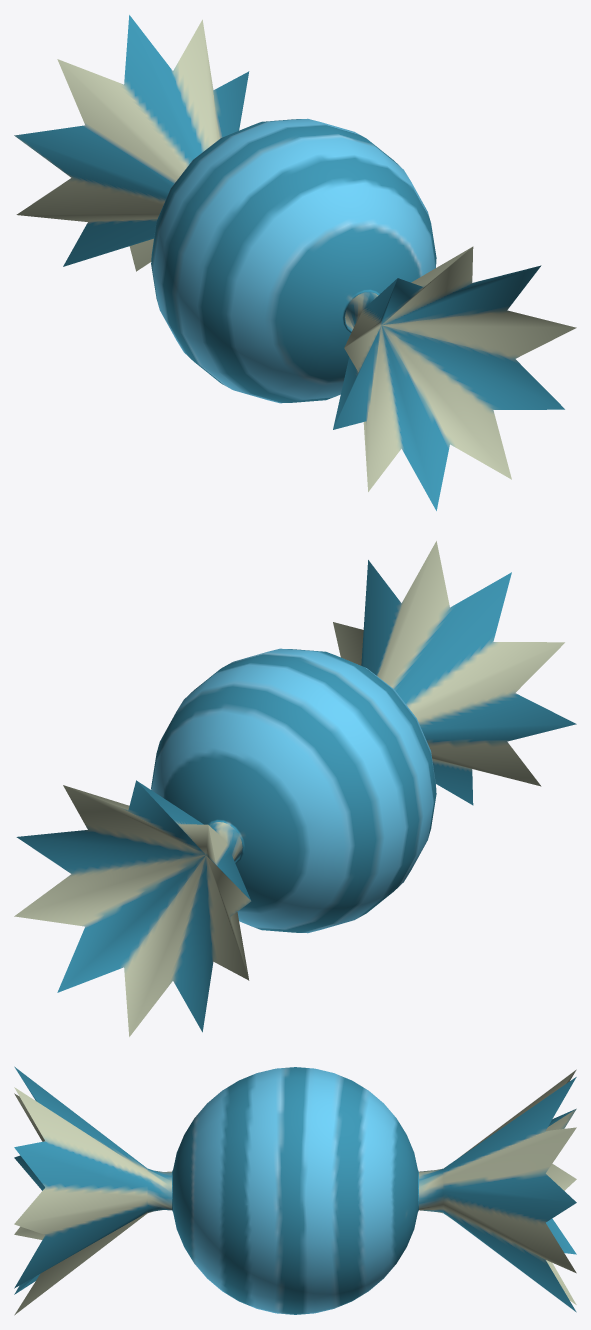
Rendered from CandyModel.fbx.
The picture shows the model from 3 angles, top to bottom: view 1: azimuth 30°, elevation 25°; view 2: azimuth 150°, elevation 25°; view 3: azimuth 270°, elevation 25°; orthographic projection. The views are drawn at different scales.
Parts seen in each view (by area): view 1: PickUp; view 2: PickUp; view 3: PickUp.
Part boxes in pixels (x1,y1,x2,y2): PickUp: (14,15,576,510); PickUp: (14,541,576,1036); PickUp: (14,1066,576,1315).
Bounding box in the file's own units: 100 × 100 × 225.
